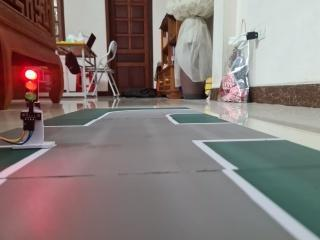red: (13, 57, 46, 113)
